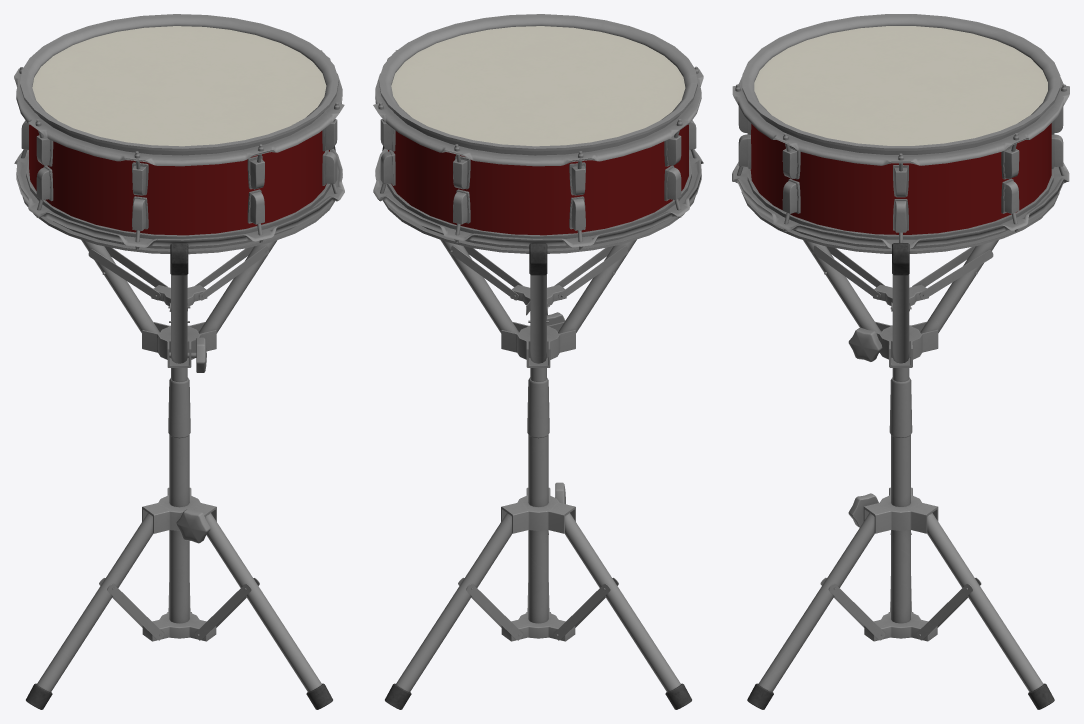
File: SM_Drum_Snare_01.fbx
The picture shows the model from 3 angles, left to right: view 1: azimuth 30°, elevation 25°; view 2: azimuth 150°, elevation 25°; view 3: azimuth 270°, elevation 25°; orthographic projection.
Visible parts, largest first — view 1: SM_Drum_Snare_01_LOD0; view 2: SM_Drum_Snare_01_LOD0; view 3: SM_Drum_Snare_01_LOD0.
Part boxes in pixels (<box>): SM_Drum_Snare_01_LOD0: <box>14,14,344,709</box>; SM_Drum_Snare_01_LOD0: <box>373,14,703,709</box>; SM_Drum_Snare_01_LOD0: <box>732,14,1069,709</box>.
Size of the model in its own units: 38.24 by 36.63 by 71.03.
Materials: 1 (1 with a texture image).
